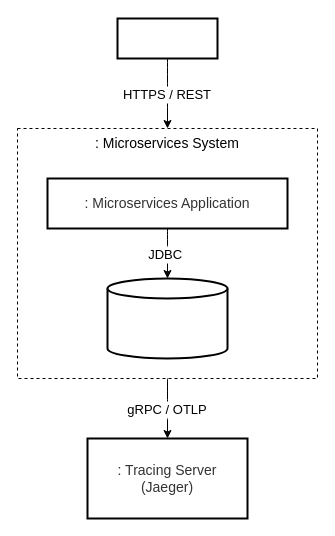
The diagram is 335 pixels wide and 536 high, and some of its shapes have lost their labels. The shapes that lost their labels are listed below. From the top down, each one's centre as x and y in pixels, then its label:
At [167,38]: ": Web Client".
At [167,318]: ": Centralized DB".
